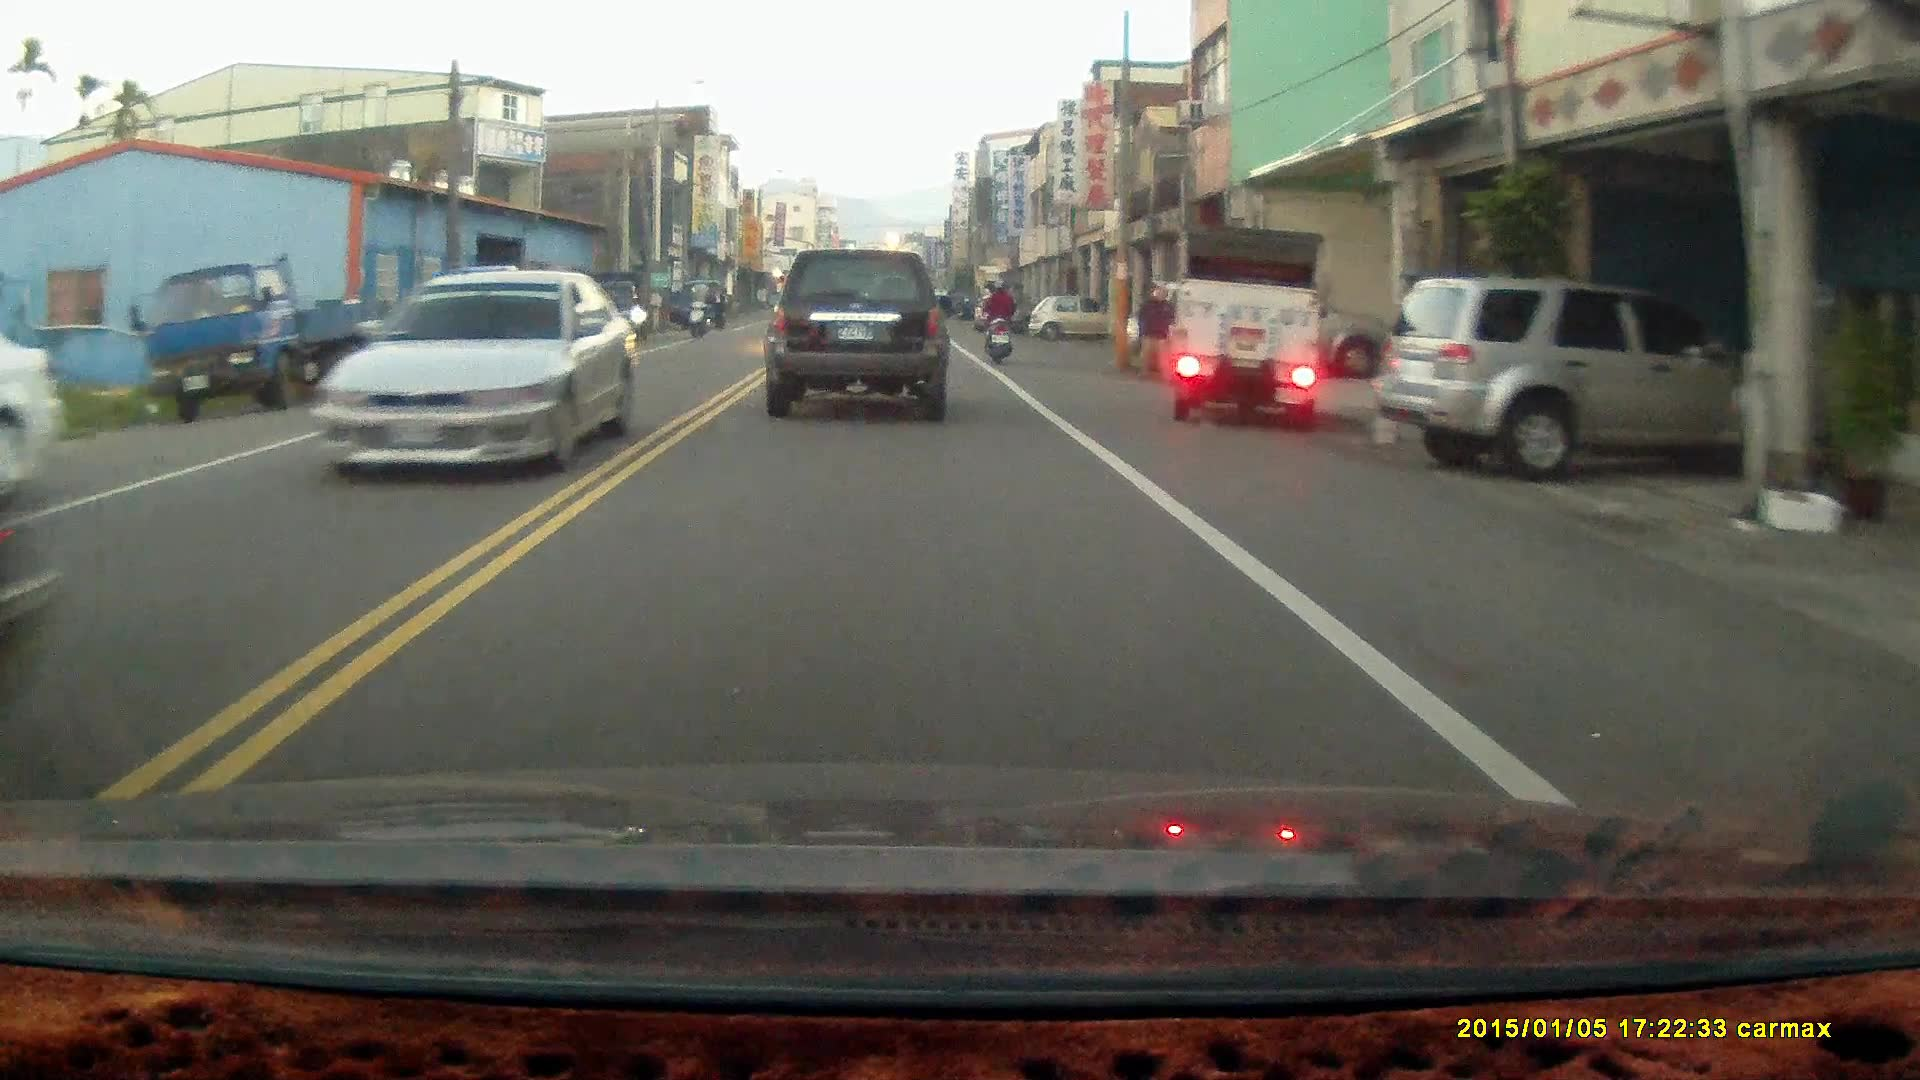pedestrian: (1132, 287, 1174, 386), (706, 283, 726, 330)
rider: (979, 280, 1015, 367), (685, 277, 716, 342)
vehicle: (1384, 279, 1776, 482), (310, 270, 634, 482), (144, 254, 374, 420), (766, 251, 952, 427), (1169, 228, 1329, 430), (1119, 277, 1384, 386), (1032, 298, 1108, 352)
